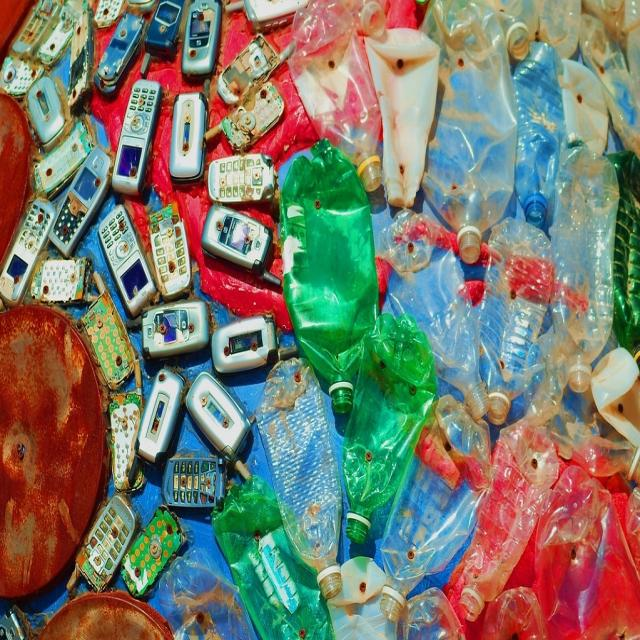Plastics: (282, 147, 640, 614)
